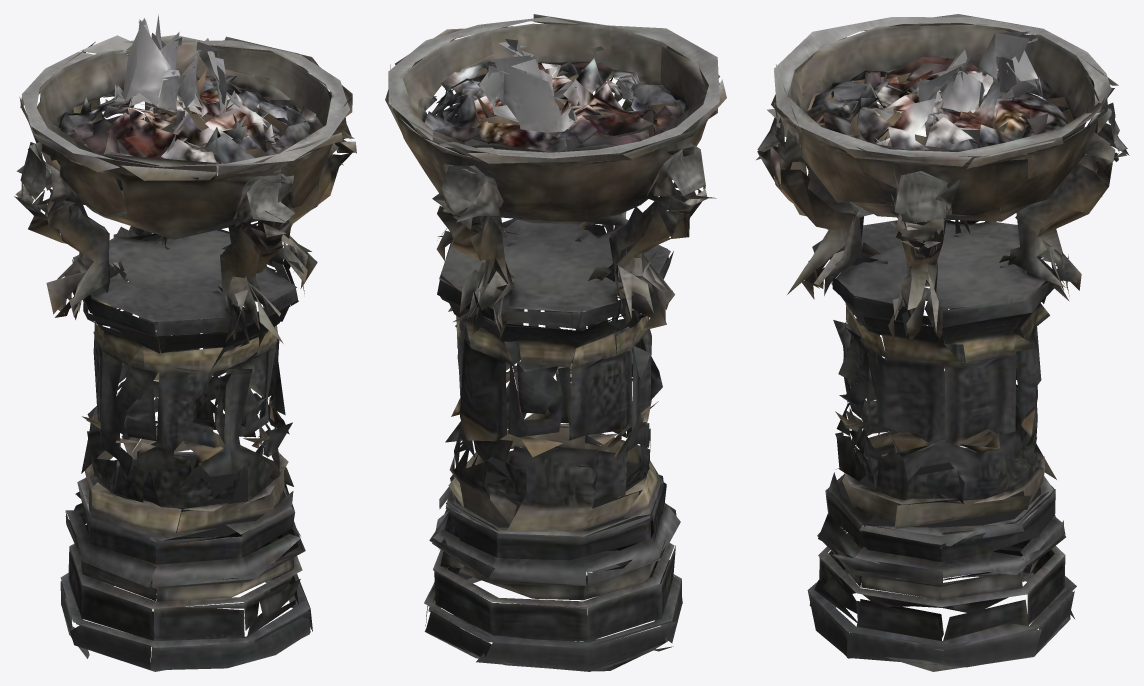
Rendered from brazier.glb.
The picture shows the model from 3 angles, left to right: view 1: azimuth 30°, elevation 25°; view 2: azimuth 150°, elevation 25°; view 3: azimuth 270°, elevation 25°; orthographic projection. The views are drawn at different scales.
Visible parts, largest first — view 1: brazier; view 2: brazier; view 3: brazier.
Boxes of the visible parts, bbox=[...] form: brazier: bbox=[14, 14, 356, 671]; brazier: bbox=[385, 14, 726, 671]; brazier: bbox=[756, 14, 1129, 671].
Bounding box in the file's own units: 0.8689 × 1.53 × 0.8709.
1 material, 1 textured.
